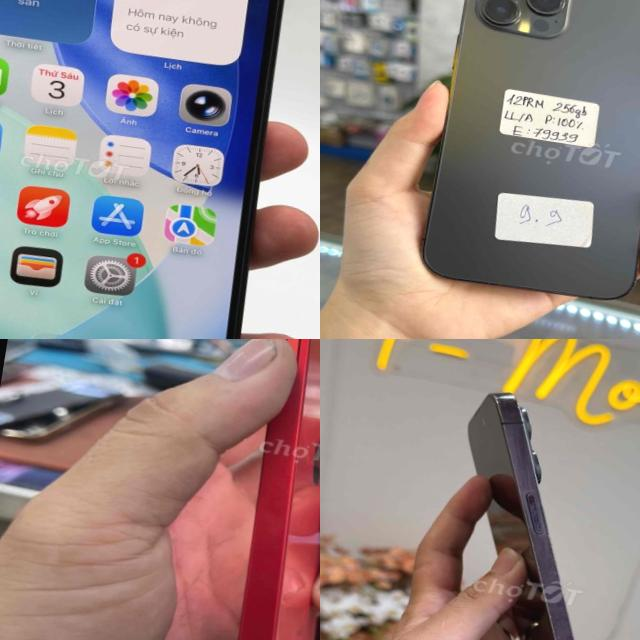gen_12_13: (0, 0, 314, 339), (410, 0, 640, 308), (198, 339, 320, 640)
gen_14: (414, 385, 640, 640)
